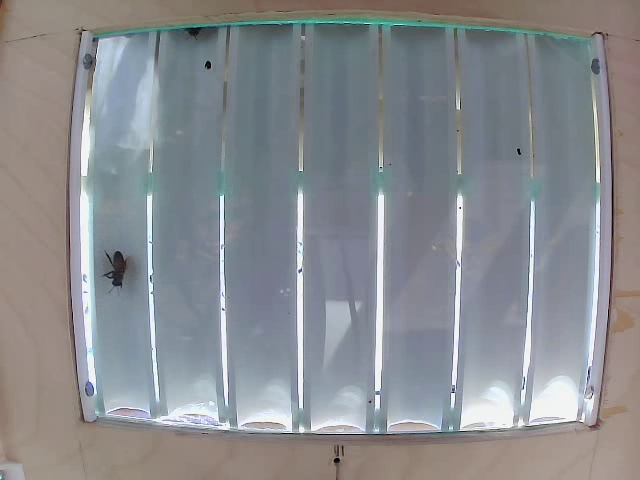bee: (100, 237, 146, 292)
